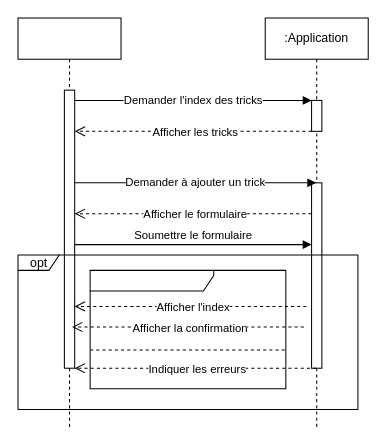
Some shapes in this 386 by 448 pixel diagram are drawn without their labels. Here are the shapes that lost their labels. From the top down, the box of each, then its label:
(17, 17, 121, 430): :Utilisateur
(89, 269, 286, 389): alt {donnée validée}
